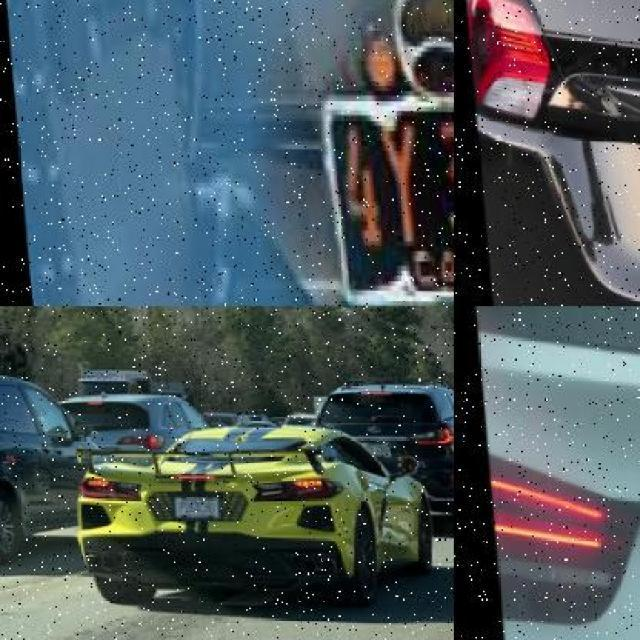LicensePlate: (318, 102, 454, 264), (166, 494, 213, 520)
